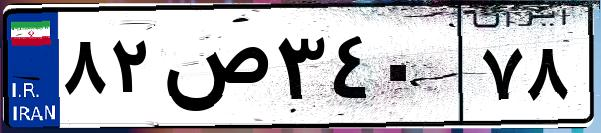0: (385, 28, 445, 110)
2: (110, 28, 158, 98)
3: (270, 28, 330, 110)
4: (330, 28, 385, 110)
7: (475, 38, 525, 113)
8: (57, 26, 110, 100), (525, 38, 570, 115)
ص: (158, 20, 270, 120)
